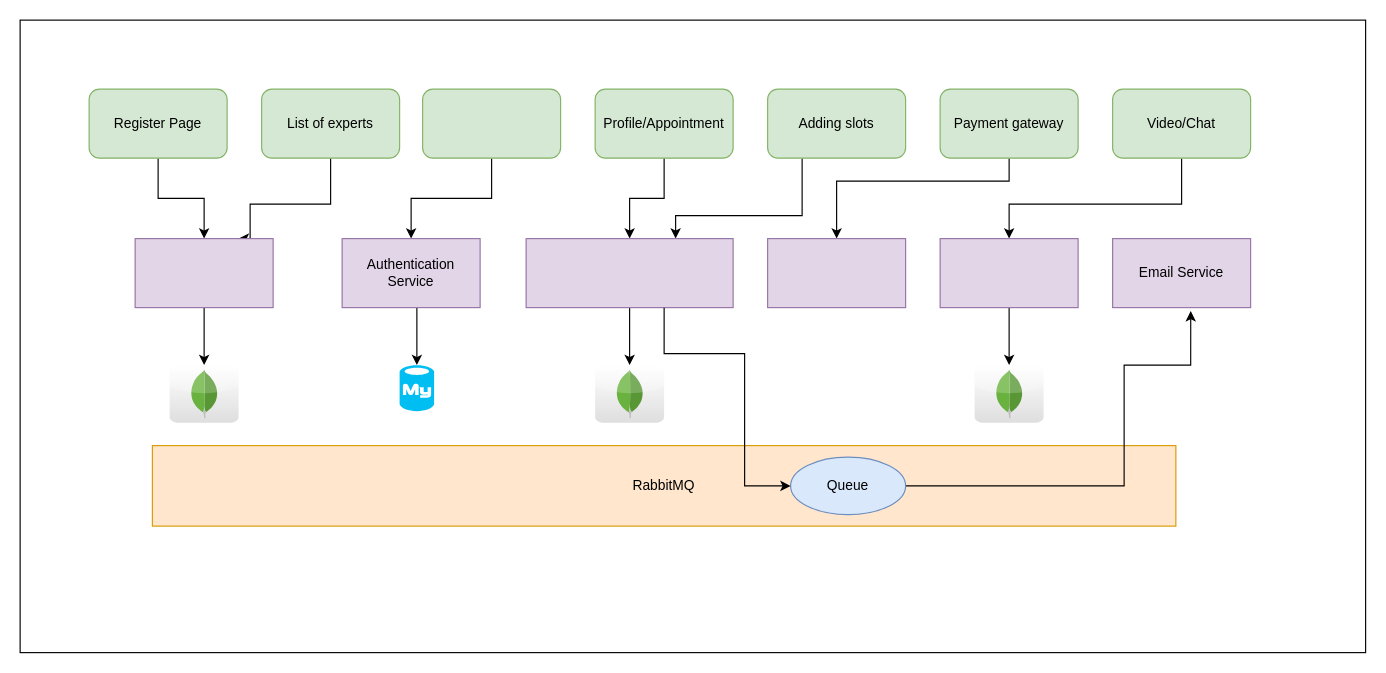
The diagram is 1386 pixels wide and 673 high, and some of its shapes have lost their labels. Here are the shapes that lost their labels. From the top down, the centre of each, then its label:
the point at 491,123: Login Page
the point at 203,272: User Service
the point at 629,272: Appointment Service
the point at 836,272: Payment Service
the point at 1008,272: Chat Service
